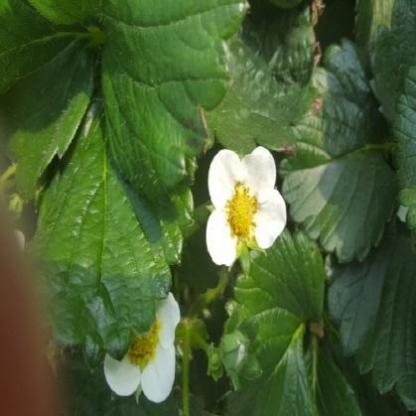Strawberry_Blossom_Blight: (222, 179, 261, 246)
